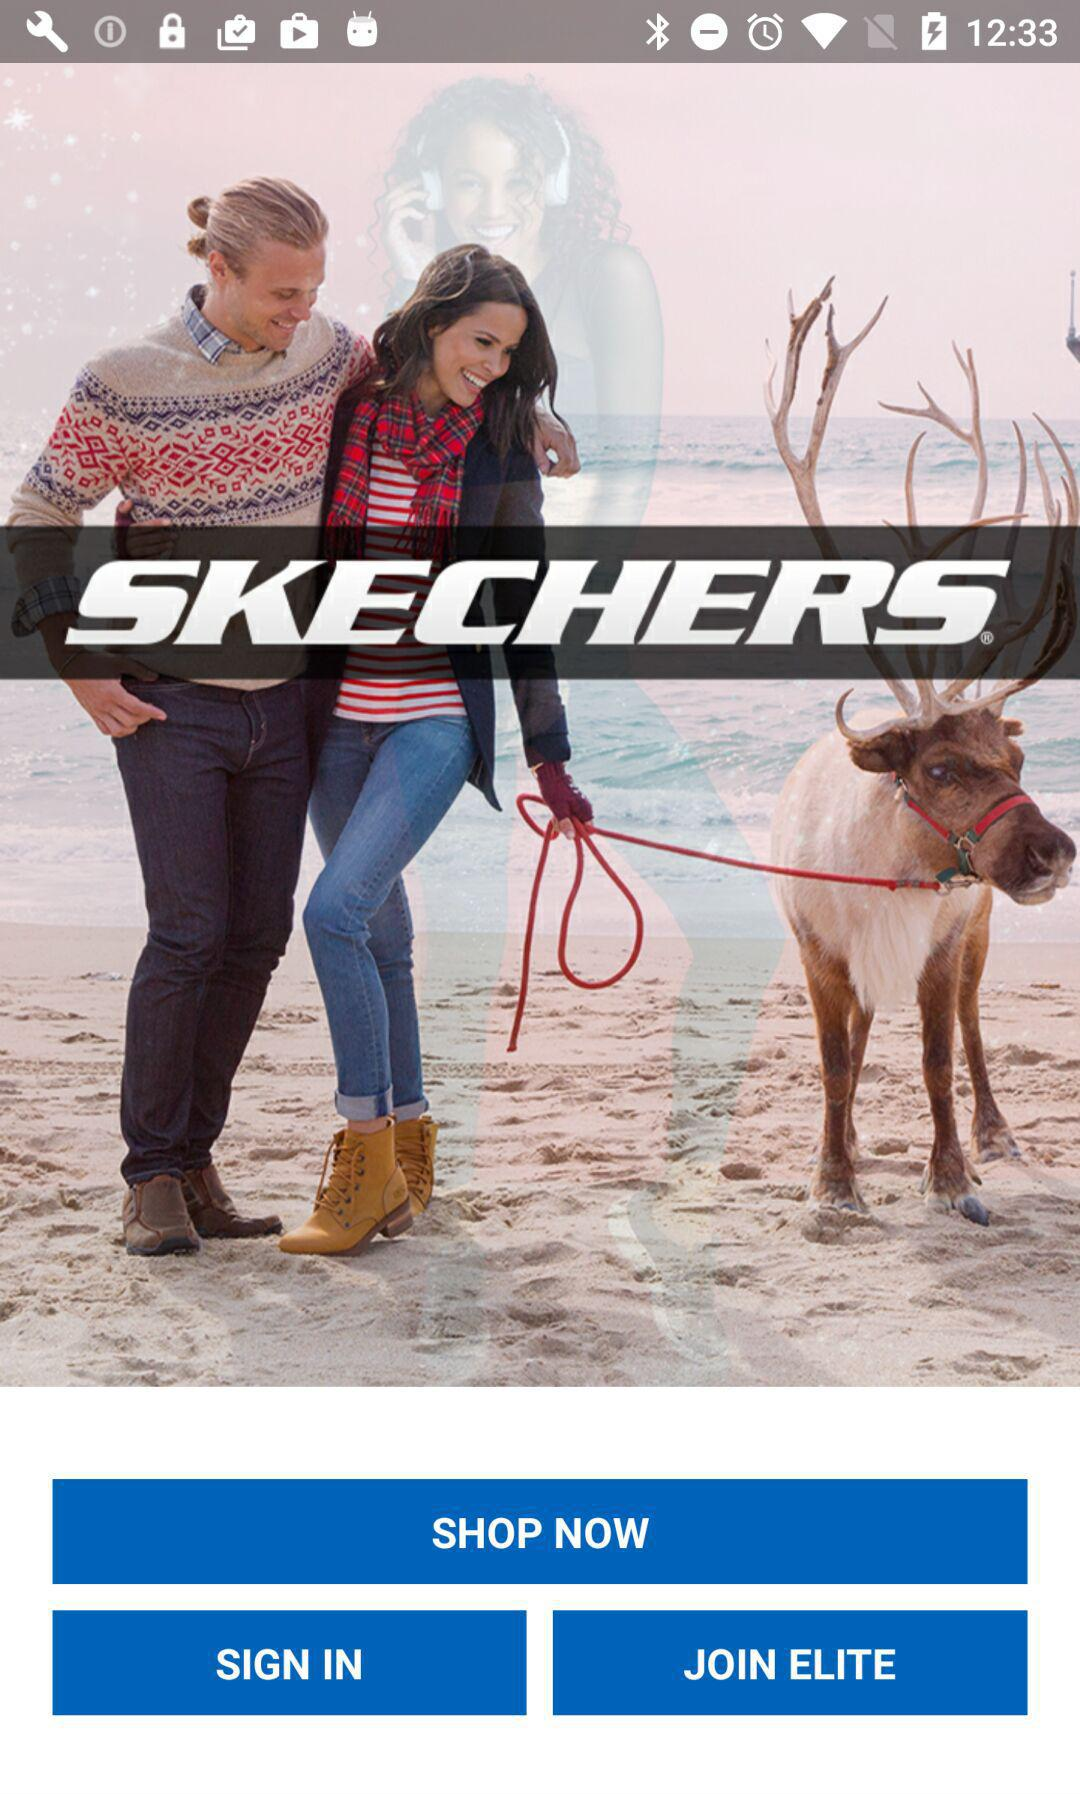BackgroundImage: (1, 64, 1080, 1388)
TextButton: (53, 1477, 1029, 1586), (552, 1609, 1029, 1717), (53, 1609, 528, 1716)
UpperTaskBar: (1, 1, 1080, 64)
